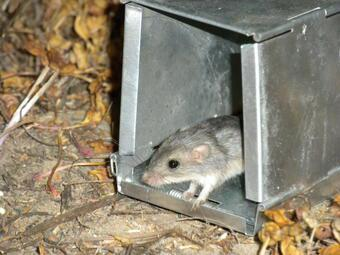rat: (142, 114, 244, 210)
